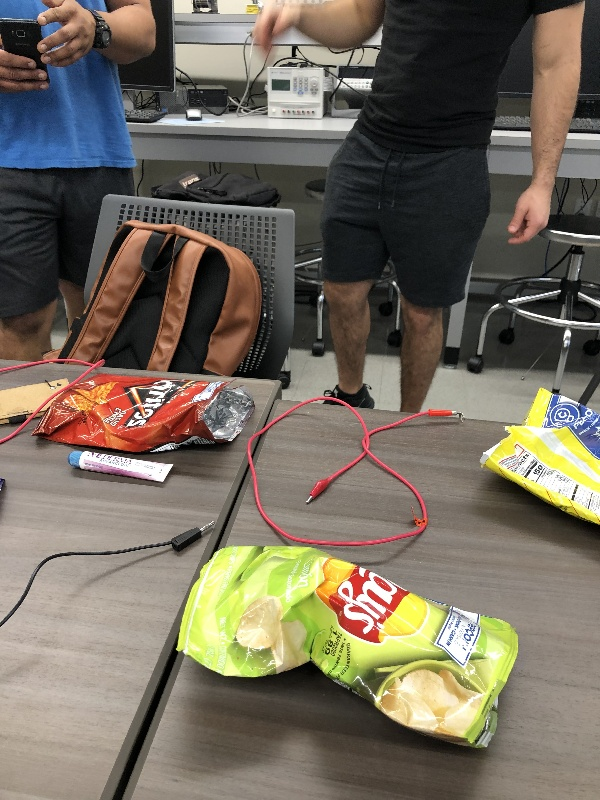bag: (171, 543, 525, 758), (466, 382, 600, 538), (26, 373, 270, 455)
